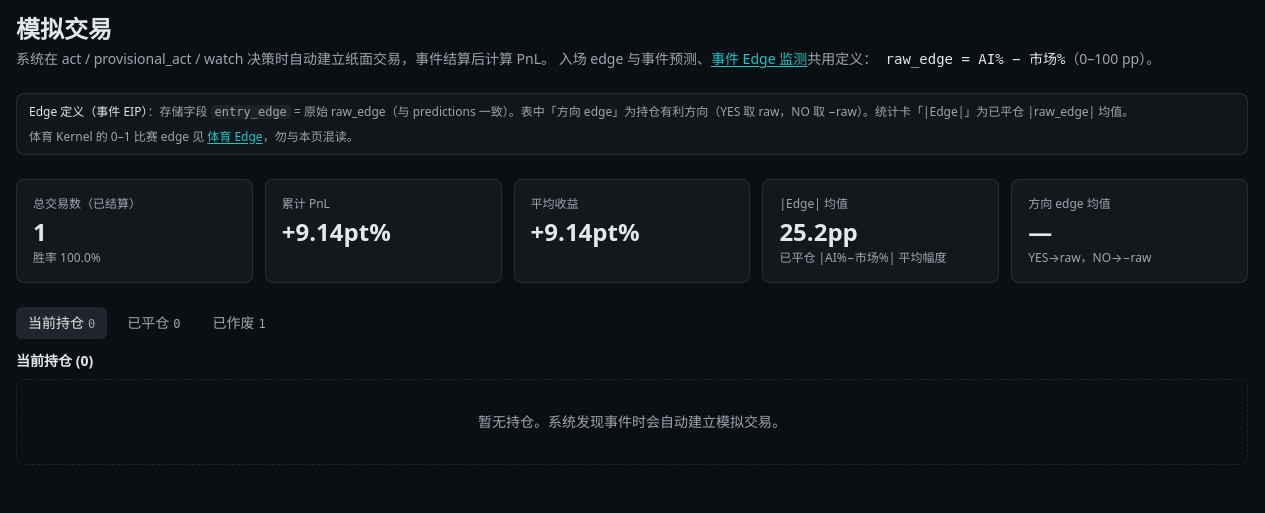
Test: TradesPage › gives voided trades their own tab and says the settlement fields are unsettled
Expected: the text "暂无持仓。系统发现事件时会自动建立模拟交易。" is shown, [16, 379, 1248, 465]
Expected: the text "Voided trade event" is not shown
What coordinates should you click on to do the following:
click the button "已作废1"
I would click on:
 (239, 323)
Its box is [200, 307, 278, 339].
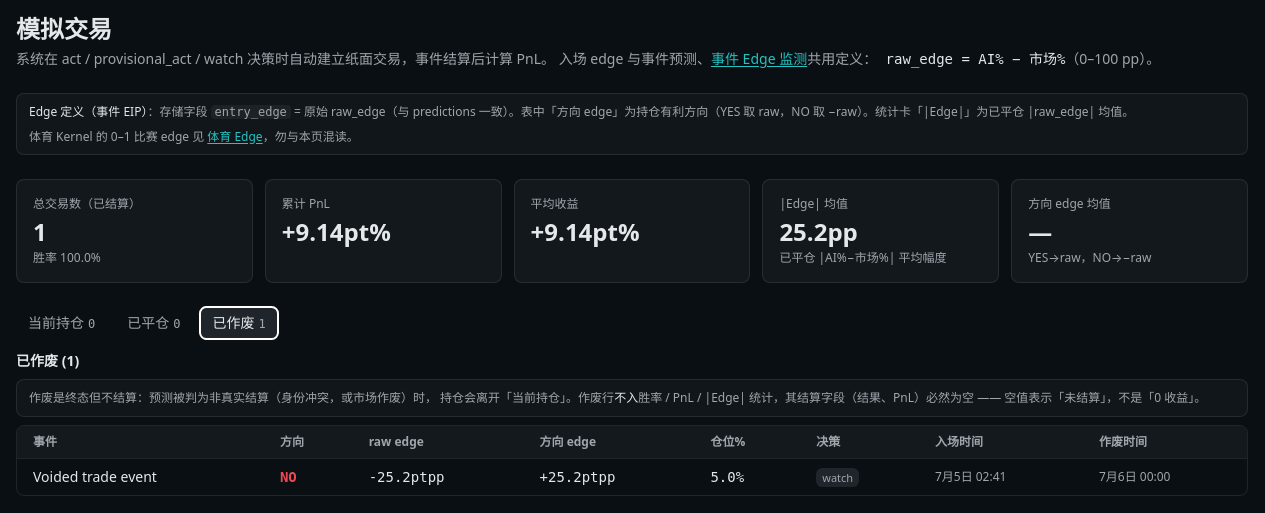
Result: the element "已作废 (1)" is shown at [16, 351, 1248, 496]
Result: the link "Voided trade event" is shown at [33, 466, 157, 486]
Result: the element "已作废 (1)" shows "不是「0 收益」" at [638, 389, 1206, 406]
